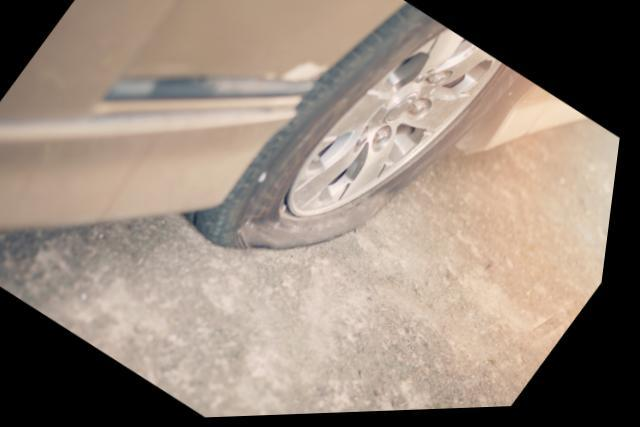tire flat: (190, 6, 524, 250)
